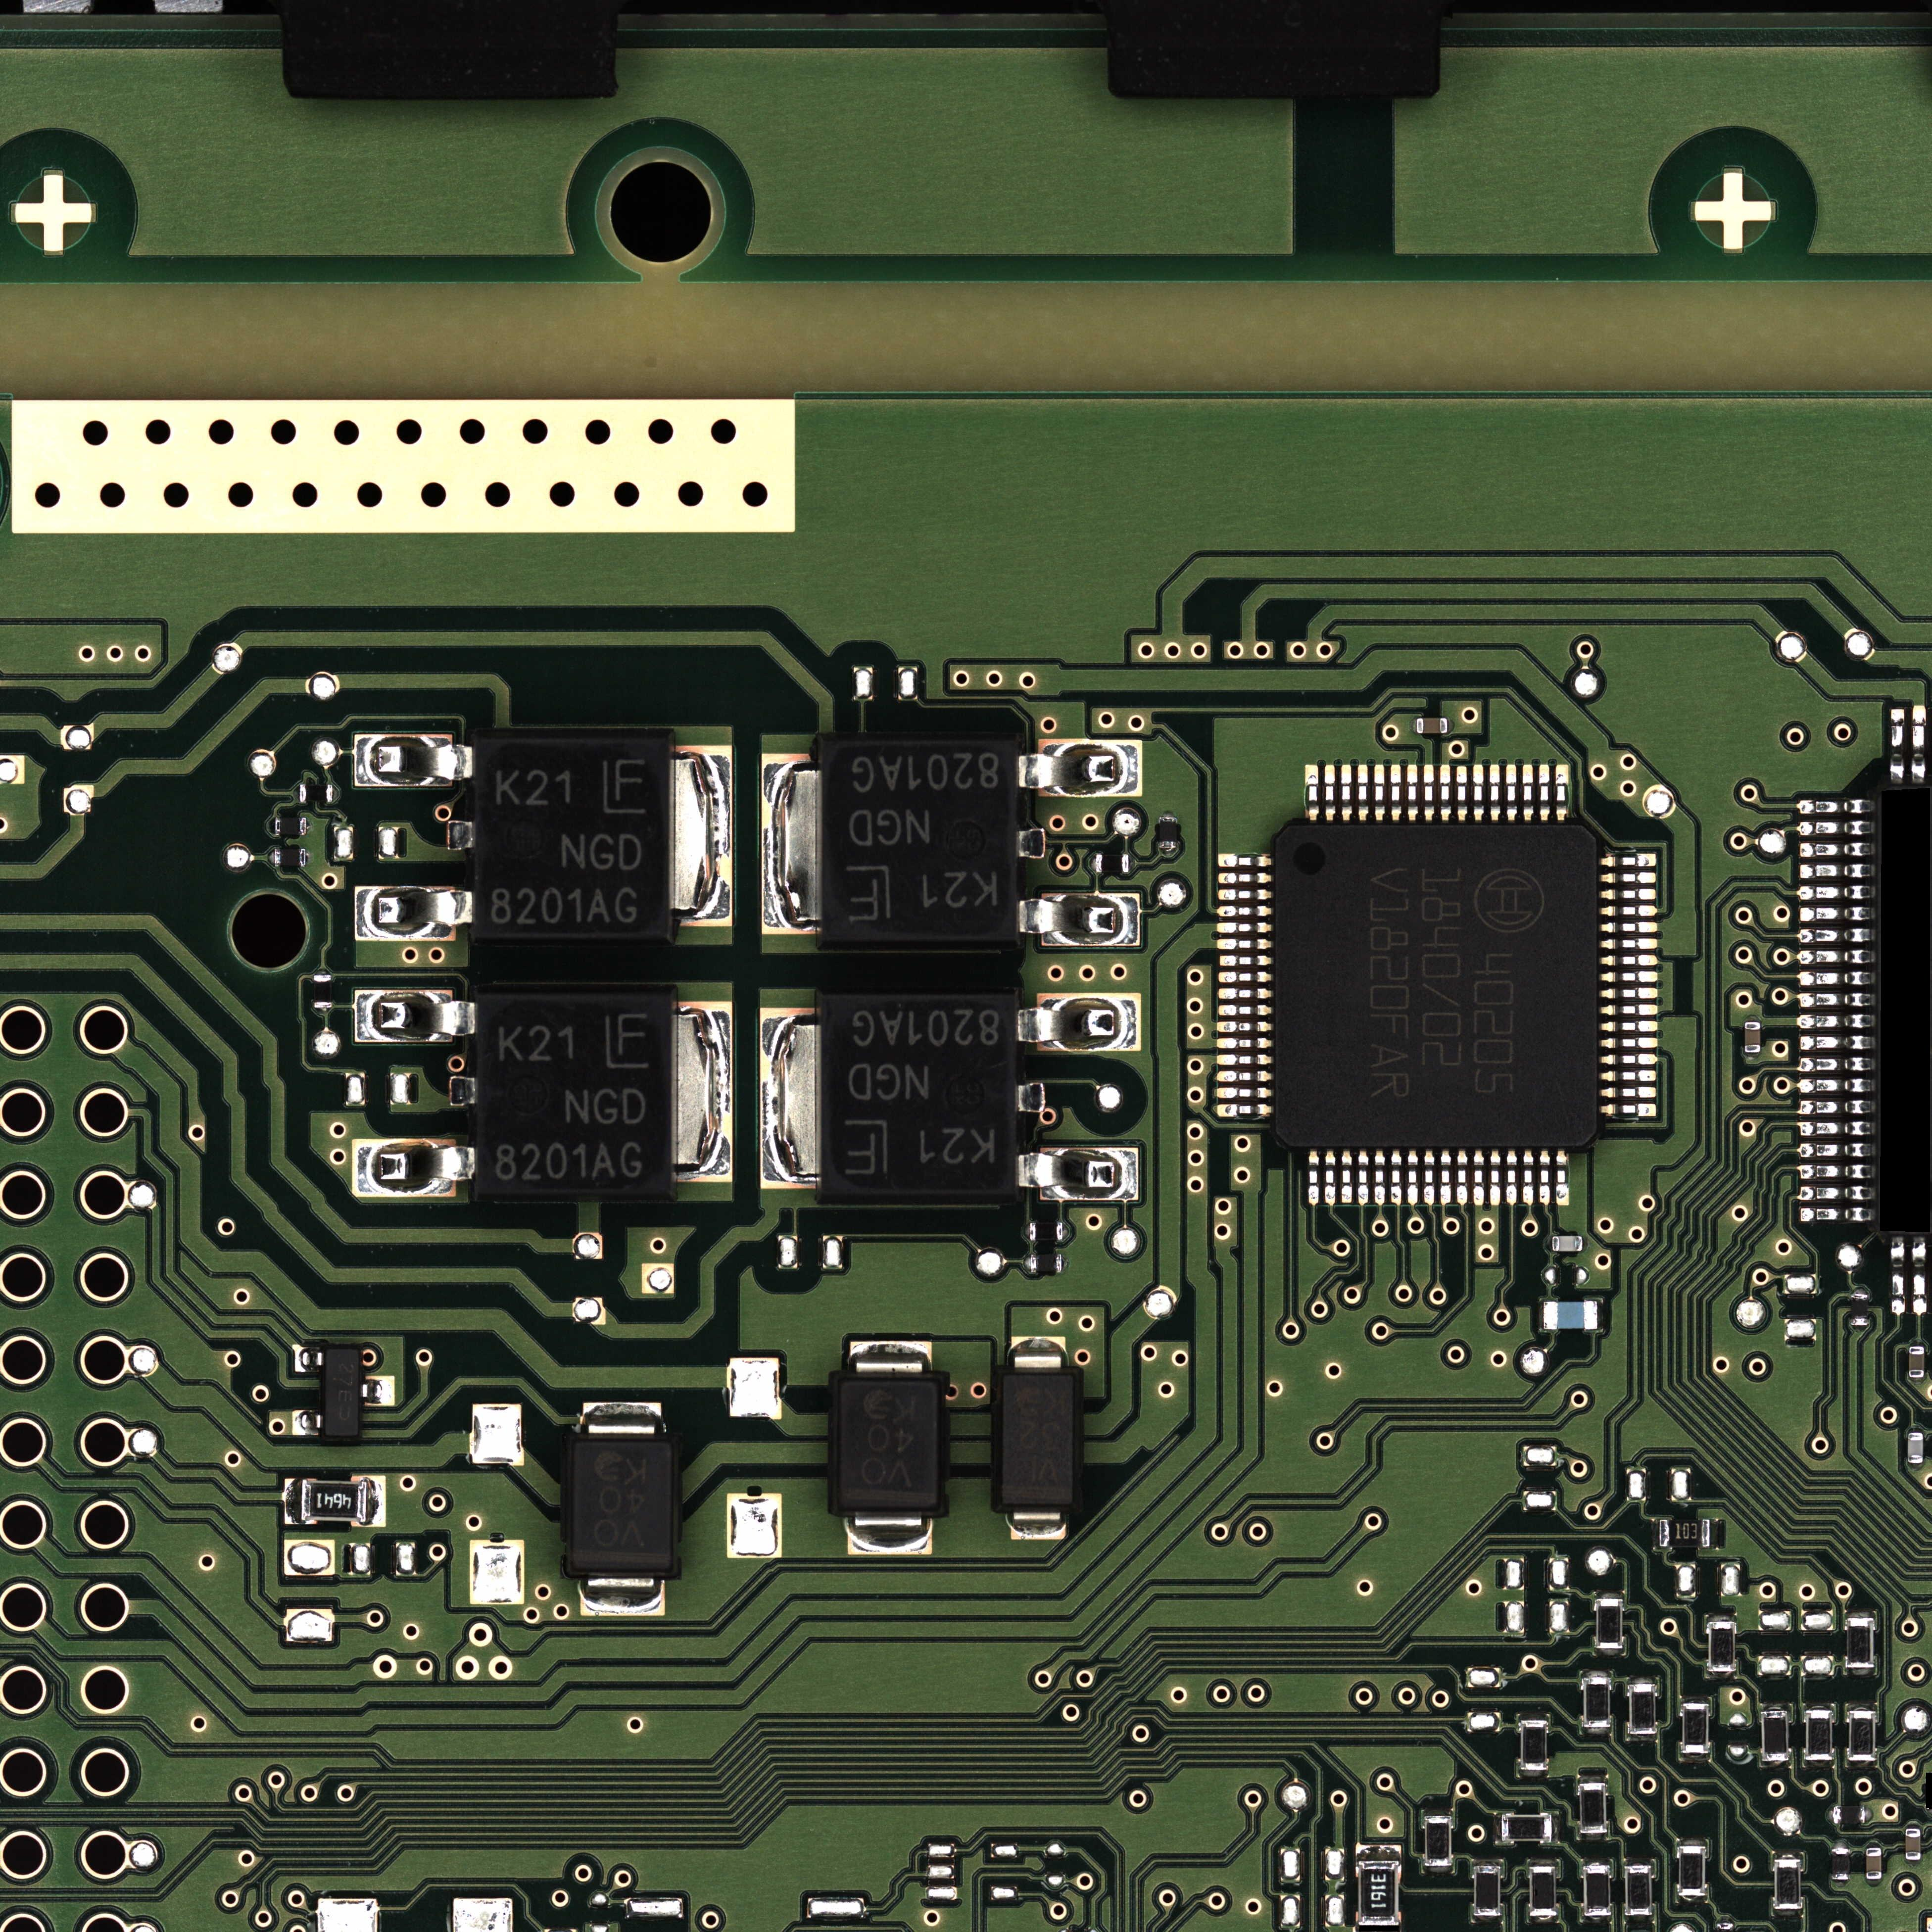Package: (1276, 826, 1596, 1146), (821, 994, 1016, 1194), (476, 998, 671, 1196), (823, 741, 1017, 939), (476, 738, 669, 938), (837, 1380, 939, 1509), (571, 1442, 674, 1571), (1001, 1375, 1074, 1506), (324, 1346, 361, 1437), (301, 1481, 366, 1522), (1359, 1863, 1398, 1925), (1545, 1300, 1598, 1329), (1660, 1520, 1711, 1546), (1583, 1865, 1610, 1916), (1502, 1815, 1552, 1842), (1847, 1619, 1874, 1668), (1849, 1711, 1875, 1760), (1583, 1677, 1610, 1727), (1426, 1817, 1451, 1867), (1522, 1720, 1546, 1769), (1762, 1711, 1787, 1760), (1580, 1783, 1605, 1833), (1806, 1711, 1831, 1760), (1629, 1684, 1654, 1734), (1683, 1704, 1707, 1753), (1775, 1859, 1799, 1909), (1474, 1867, 1499, 1916), (1598, 1599, 1622, 1649), (1709, 1622, 1734, 1672), (1530, 1867, 1555, 1916), (1679, 1847, 1704, 1895), (1626, 1867, 1651, 1914), (299, 784, 333, 803), (1095, 855, 1129, 874), (274, 847, 306, 867), (1030, 1223, 1063, 1240), (274, 817, 306, 835), (1159, 817, 1177, 849), (1851, 1293, 1868, 1325), (1030, 1254, 1062, 1272), (1833, 1806, 1865, 1824), (1909, 1346, 1925, 1378), (1417, 718, 1447, 734), (1833, 1849, 1849, 1879), (1905, 1829, 1921, 1859), (1744, 1023, 1760, 1053), (1907, 1433, 1923, 1463), (1867, 1849, 1881, 1879), (1552, 1237, 1582, 1251)
Solder: (669, 745, 732, 927), (761, 752, 821, 934), (759, 1007, 819, 1189), (672, 1001, 732, 1182), (1021, 740, 1141, 796), (354, 1139, 472, 1196), (1019, 994, 1139, 1049), (1019, 893, 1141, 947), (354, 989, 474, 1042), (356, 886, 471, 941), (354, 734, 472, 787), (1019, 1148, 1138, 1201), (579, 1571, 663, 1615), (849, 1511, 931, 1555), (582, 1401, 662, 1442), (849, 1341, 932, 1380), (1010, 1336, 1065, 1375), (1010, 1506, 1067, 1539), (1890, 1237, 1905, 1313), (1799, 1207, 1875, 1223), (1799, 1185, 1875, 1201), (1799, 1164, 1875, 1180), (1799, 1100, 1875, 1116), (1798, 1122, 1874, 1138), (1799, 1143, 1875, 1159), (1799, 971, 1875, 987), (1799, 1014, 1875, 1030), (1799, 1035, 1875, 1051), (1799, 1058, 1875, 1074), (1799, 1077, 1875, 1093), (1799, 821, 1875, 837), (1799, 862, 1875, 878), (1799, 885, 1875, 901), (1799, 906, 1875, 922), (1799, 948, 1875, 964), (1890, 708, 1905, 784), (1911, 704, 1925, 784), (1913, 1237, 1927, 1313), (1798, 994, 1874, 1008), (1799, 800, 1875, 814), (1799, 842, 1875, 856), (1799, 929, 1875, 943), (361, 1375, 395, 1407), (366, 1477, 386, 1525), (1555, 764, 1569, 823), (1555, 1148, 1569, 1207), (1355, 1844, 1401, 1861), (1217, 853, 1274, 867), (1215, 1104, 1272, 1118), (1599, 1102, 1656, 1116), (292, 1410, 322, 1435), (294, 1348, 324, 1373), (1306, 764, 1318, 823), (1407, 764, 1419, 823), (1307, 1148, 1320, 1207), (1522, 764, 1534, 823), (1506, 764, 1518, 823), (1472, 764, 1484, 823), (1506, 1148, 1518, 1207), (1599, 1021, 1658, 1033), (1599, 1003, 1658, 1016), (1599, 987, 1658, 1000), (1599, 971, 1658, 984), (1599, 1037, 1658, 1049), (1599, 954, 1658, 966), (449, 1077, 476, 1104), (285, 1479, 301, 1523), (1019, 830, 1046, 856), (1407, 1150, 1419, 1207), (1599, 872, 1656, 885), (1599, 888, 1656, 901), (1599, 904, 1656, 916), (1599, 855, 1656, 867), (1601, 938, 1658, 950), (1456, 1150, 1468, 1207), (1599, 1070, 1656, 1083), (1599, 1053, 1656, 1065), (1599, 1086, 1656, 1099), (1217, 872, 1272, 885), (1217, 888, 1272, 901), (1217, 938, 1272, 950), (1217, 987, 1272, 1000), (1217, 1086, 1272, 1099), (1217, 1070, 1272, 1083), (1217, 1037, 1272, 1049), (448, 823, 472, 849), (1019, 1085, 1044, 1111), (1219, 971, 1272, 984), (1424, 764, 1435, 823), (1325, 764, 1336, 823), (1357, 764, 1368, 823), (1341, 764, 1352, 823), (1375, 764, 1385, 823), (1391, 764, 1401, 823), (1375, 1148, 1385, 1207), (1539, 764, 1550, 823), (1490, 764, 1500, 823), (1456, 764, 1467, 823), (1440, 764, 1451, 823), (1523, 1148, 1534, 1207), (1539, 1148, 1550, 1207), (1424, 1150, 1435, 1207), (1359, 1148, 1369, 1205), (1325, 1148, 1336, 1205), (1391, 1150, 1401, 1207), (1601, 922, 1658, 932), (1490, 1150, 1500, 1207), (1474, 1150, 1484, 1207), (1440, 1150, 1451, 1207), (1217, 906, 1272, 916), (1217, 922, 1272, 932), (1217, 1005, 1272, 1016), (1217, 1021, 1272, 1031), (1341, 1148, 1352, 1203), (1217, 1054, 1272, 1065), (1219, 955, 1272, 966), (1773, 1849, 1803, 1859), (1582, 1727, 1612, 1736), (1594, 1591, 1624, 1599), (1677, 1895, 1707, 1904), (1677, 1836, 1706, 1845), (1578, 1775, 1606, 1783), (1709, 1520, 1718, 1548), (1624, 1858, 1652, 1867), (1520, 1769, 1548, 1778), (1530, 1858, 1557, 1867), (1626, 1914, 1652, 1923), (1583, 1856, 1610, 1865), (1706, 1672, 1737, 1679), (1628, 1734, 1658, 1741), (1582, 1670, 1612, 1677), (1706, 1615, 1736, 1622), (1594, 1649, 1624, 1656), (1773, 1909, 1803, 1916), (1552, 1813, 1559, 1844), (1424, 1808, 1453, 1815), (1424, 1867, 1453, 1874), (1628, 1677, 1656, 1684), (1583, 1916, 1612, 1923), (1474, 1858, 1502, 1865), (1845, 1668, 1874, 1675), (1495, 1813, 1502, 1842), (1805, 1704, 1833, 1711), (1652, 1520, 1660, 1548), (1681, 1697, 1709, 1704), (1529, 1916, 1557, 1923), (1762, 1704, 1790, 1711), (1520, 1713, 1548, 1720), (1847, 1704, 1875, 1711), (1681, 1753, 1709, 1760), (1474, 1916, 1500, 1923), (1580, 1833, 1606, 1840), (1847, 1610, 1874, 1617), (1806, 1759, 1831, 1766), (1598, 1299, 1603, 1330), (1408, 717, 1417, 734), (1447, 717, 1456, 734), (1545, 1235, 1553, 1253), (1762, 1760, 1789, 1766), (1849, 1760, 1875, 1766), (333, 784, 340, 803), (267, 847, 274, 867), (1062, 1254, 1069, 1274), (267, 817, 274, 835), (306, 817, 313, 835), (306, 849, 313, 867), (313, 968, 331, 975), (1129, 855, 1136, 872), (1159, 849, 1177, 856), (1159, 810, 1177, 817), (1088, 855, 1095, 872), (1063, 1223, 1070, 1240), (1023, 1223, 1030, 1240), (1023, 1254, 1030, 1272), (1851, 1286, 1868, 1293), (1851, 1325, 1868, 1332), (1582, 1235, 1589, 1253), (1909, 1339, 1925, 1346), (1907, 1426, 1923, 1433), (1744, 1016, 1760, 1023), (1744, 1053, 1760, 1060), (1539, 1300, 1543, 1330), (294, 784, 299, 803), (1833, 1842, 1847, 1849), (1833, 1879, 1847, 1886), (1909, 1378, 1925, 1384), (1867, 1879, 1881, 1884), (1865, 1808, 1870, 1822), (1909, 1463, 1923, 1468), (1828, 1808, 1833, 1821), (1907, 1859, 1920, 1865), (1907, 1824, 1920, 1829), (1867, 1844, 1881, 1847)
